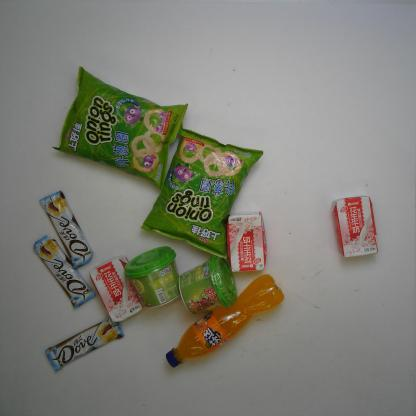Chocolate: (31, 233, 96, 309), (36, 190, 94, 270), (44, 321, 127, 375)
Drink: (163, 274, 285, 372)
Instant Drink: (123, 245, 186, 311), (176, 254, 241, 313)
Milk: (84, 257, 146, 325), (219, 210, 271, 274), (334, 193, 383, 260)
Puffed Food: (50, 61, 192, 189), (141, 126, 268, 262)
